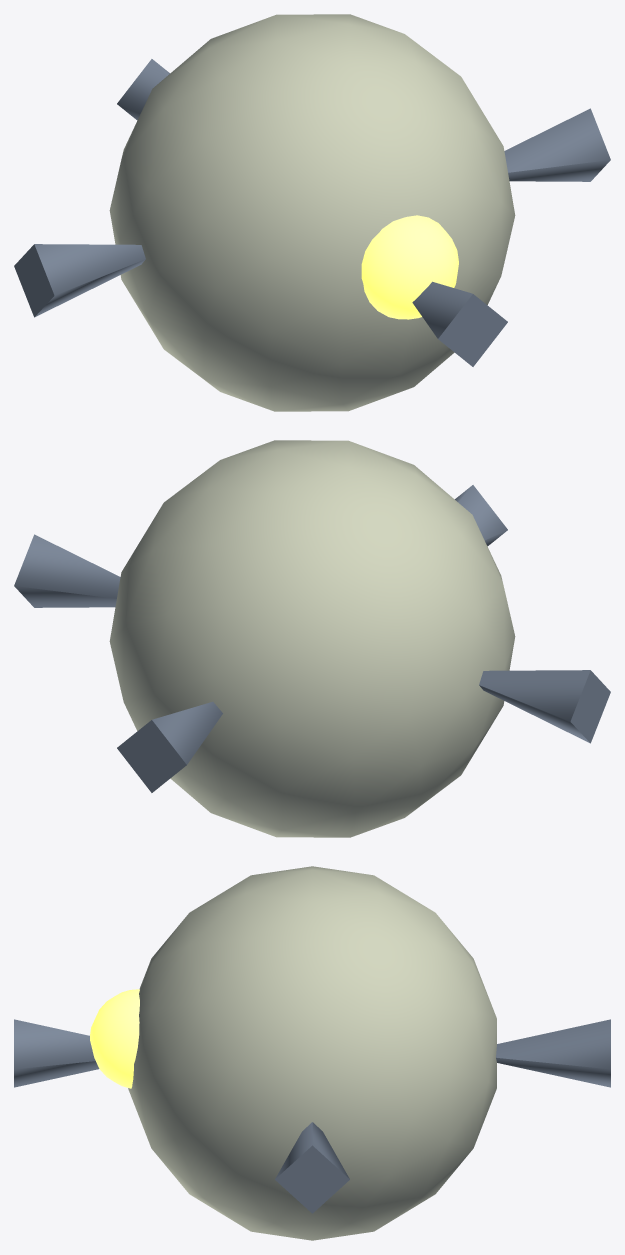
The model's file is drone.glb.
The picture shows the model from 3 angles, top to bottom: view 1: azimuth 30°, elevation 25°; view 2: azimuth 150°, elevation 25°; view 3: azimuth 270°, elevation 25°; orthographic projection. The views are drawn at different scales.
Parts seen in each view (by area): view 1: core; view 2: core; view 3: core.
Boxes of the visible parts, x1=… form: core: x1=14, y1=14, x2=610, y2=411; core: x1=14, y1=440, x2=610, y2=837; core: x1=14, y1=866, x2=610, y2=1240.
Bounding box in the file's own units: 1.9 × 1.18 × 1.9.
